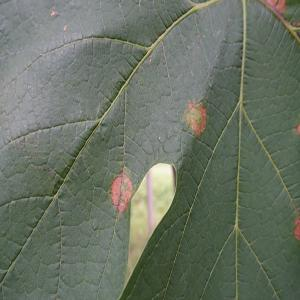Folha: (1, 0, 299, 299)
Fungo: (109, 170, 133, 215), (184, 98, 206, 136), (292, 217, 300, 241), (51, 9, 55, 16), (63, 24, 67, 31)
